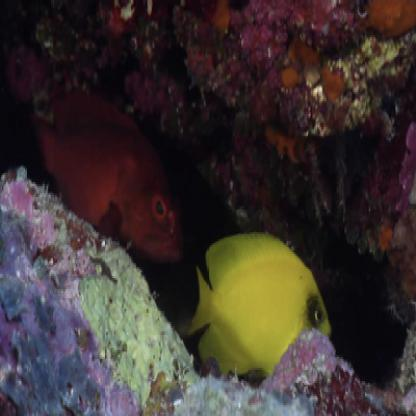Bio: (27, 79, 186, 269)
